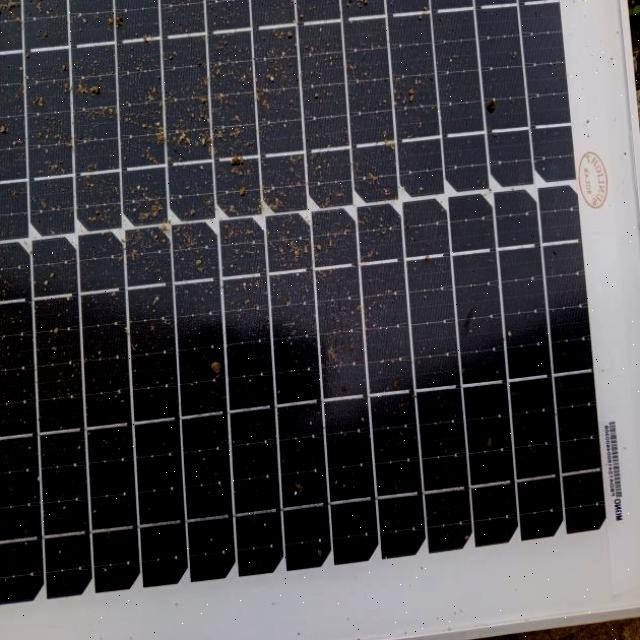Anomaly Solar Panel: (0, 0, 625, 638)
Surface Contaminant: (9, 52, 601, 618)
